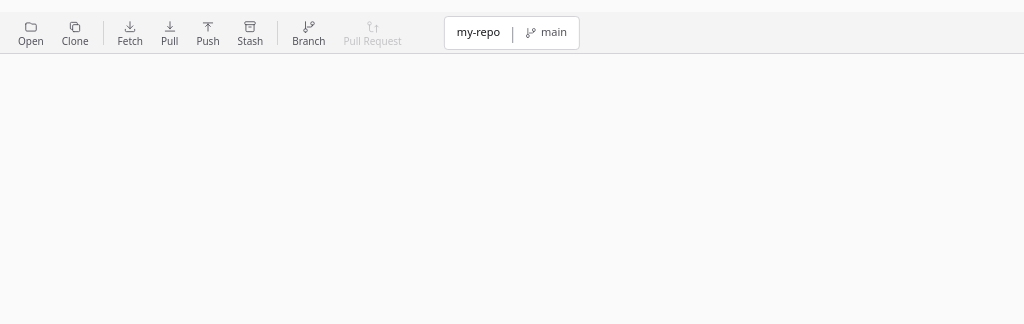
Test case: ActionToolbar › Stash flyover › opens the stash form when Stash is clicked
The image size is (1024, 324).
Click the button with test id "toolbar-btn-Stash": [250, 32] box [230,16,271,50]
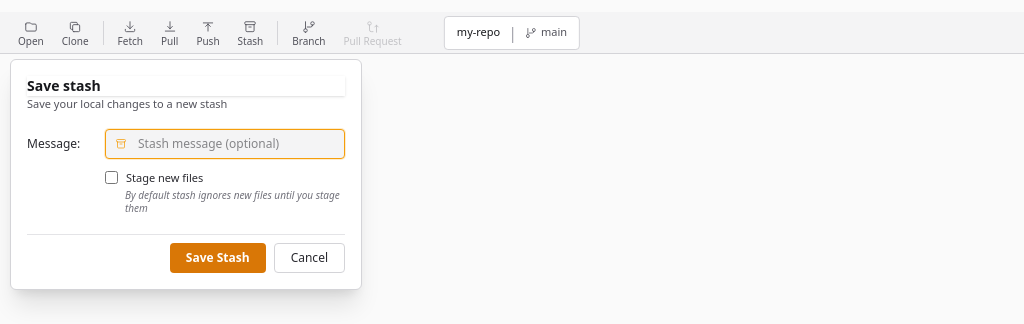
expect the heading "Save stash" is shown: met, box [27,76,345,96]
